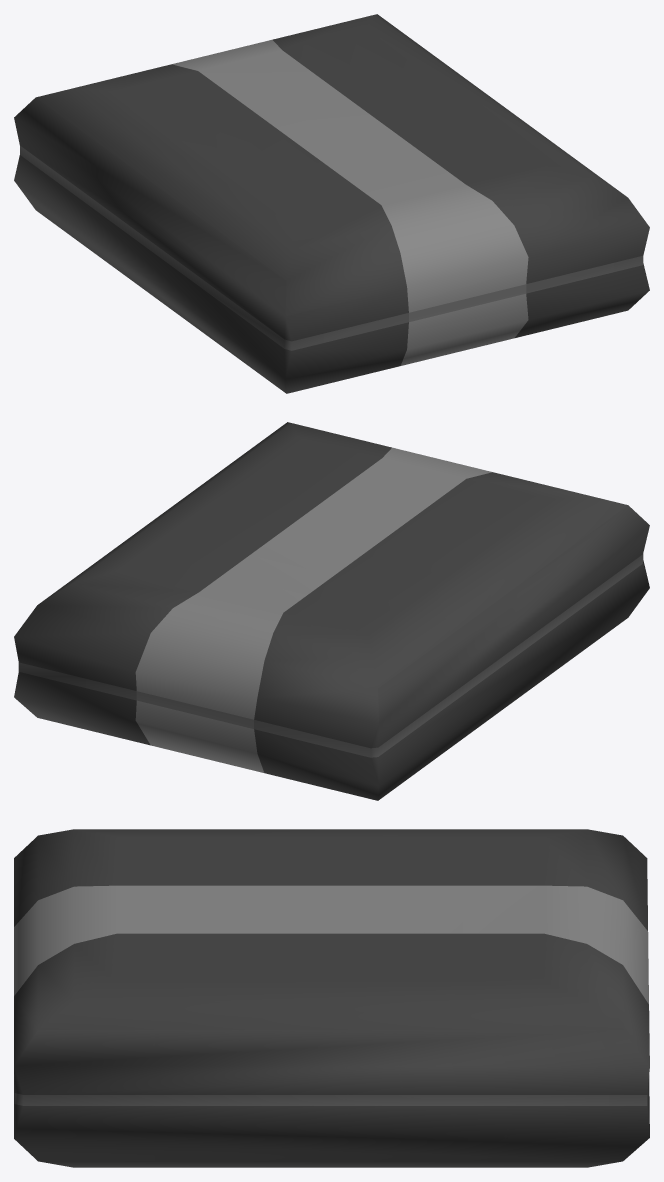
File: BeachTowelStackDark.glb
The picture shows the model from 3 angles, top to bottom: view 1: azimuth 30°, elevation 25°; view 2: azimuth 150°, elevation 25°; view 3: azimuth 270°, elevation 25°; orthographic projection. The views are drawn at different scales.
Parts seen in each view (by area): view 1: BeachTowelStackDark; view 2: BeachTowelStackDark; view 3: BeachTowelStackDark.
Part boxes in pixels (x1,y1,x2,y2): BeachTowelStackDark: (14,14,649,393); BeachTowelStackDark: (14,422,649,800); BeachTowelStackDark: (14,829,649,1167).
Size of the model in its own units: 0.268 by 0.107 by 0.3471.
1 material, 1 textured.
